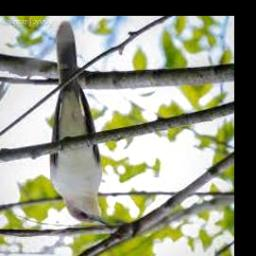Cuckoo: (51, 22, 111, 225)
